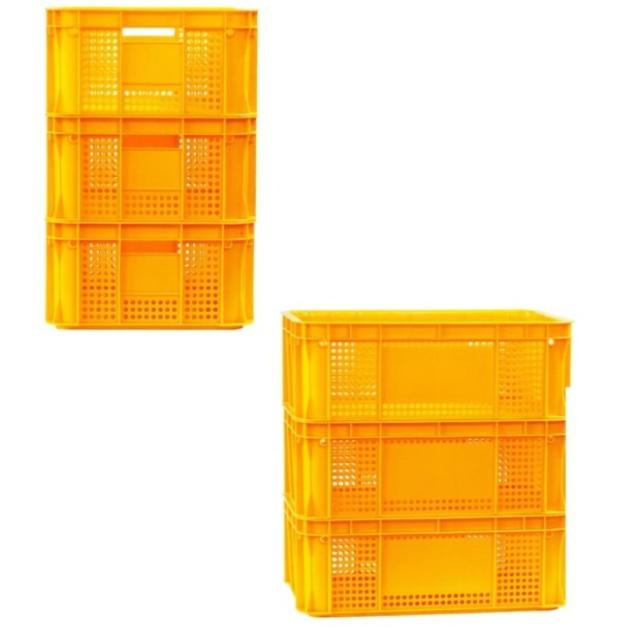basket: (284, 309, 570, 618), (45, 5, 257, 331)
